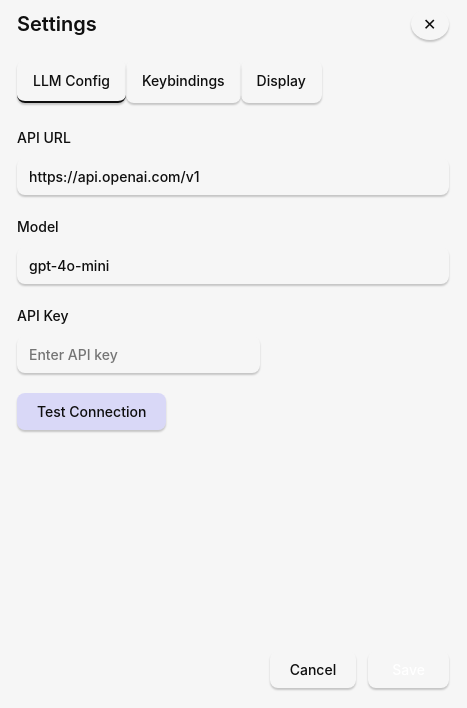
it: SettingsPanel › Rendering › renders display tab content when clicked
Click the tab with test id "tab-display".
click(281, 82)  # box [241,60,322,103]
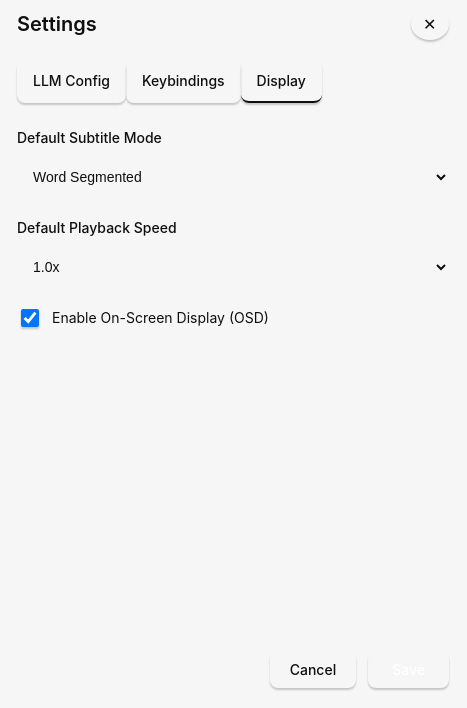
Check: the element with test id "display-content" is shown, box [17,126,449,330]
Check: the dropdown with test id "subtitle-mode-select" is shown, box [17,158,449,196]
Check: the dropdown with test id "playback-speed-select" is shown, box [17,248,449,286]
